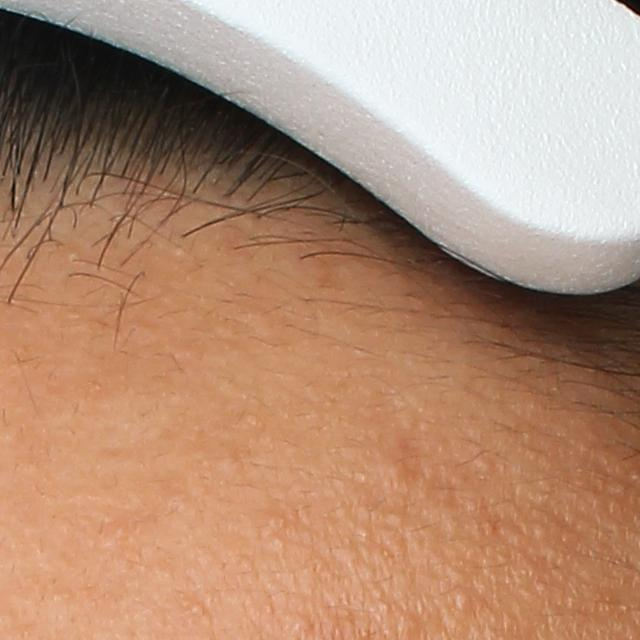comedo: (385, 456, 411, 479), (289, 612, 311, 634), (451, 589, 474, 609)
